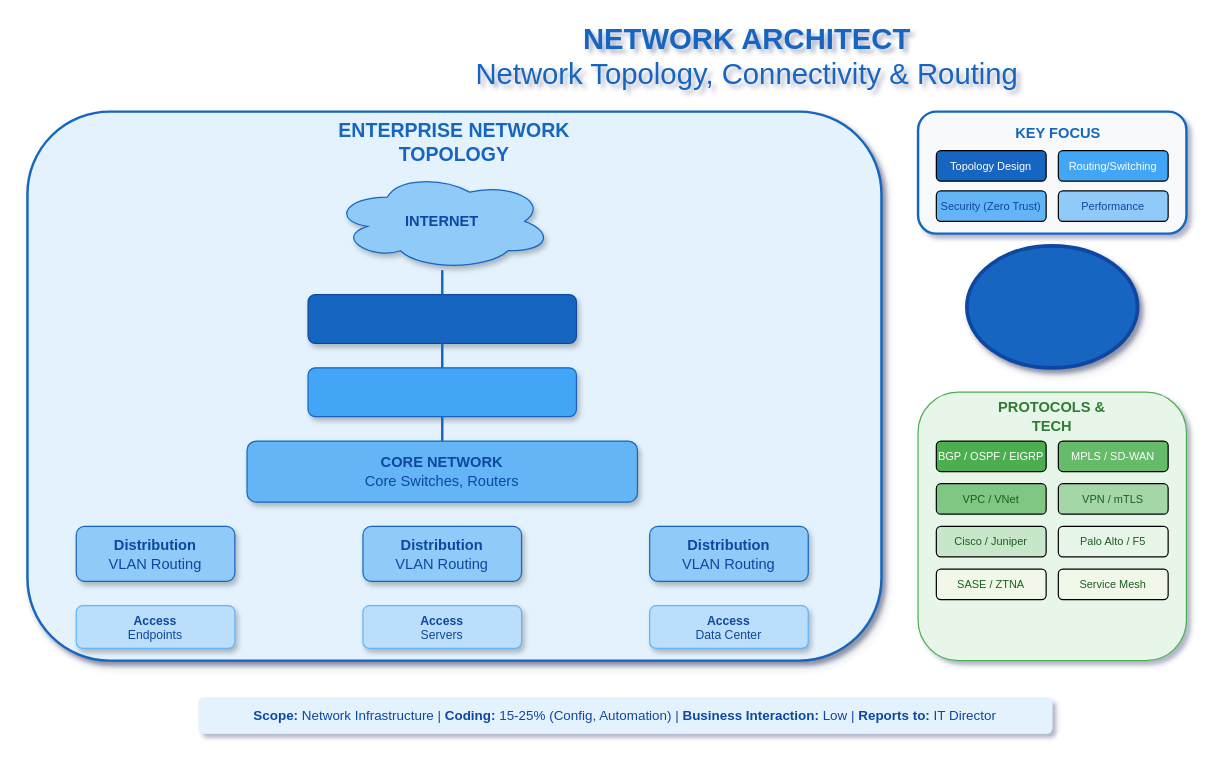
Some shapes in this 1215 by 761 pixel diagram are drawn without their labels. Each missing label, with the centre of its shape:
DMZ Web Servers, Reverse Proxy: (x=443, y=393)
Edge / Perimeter Firewall, WAF, DDoS: (x=443, y=320)
NETWORK ARCHITECT Design • Optimize Secure • Scale: (x=1053, y=308)
